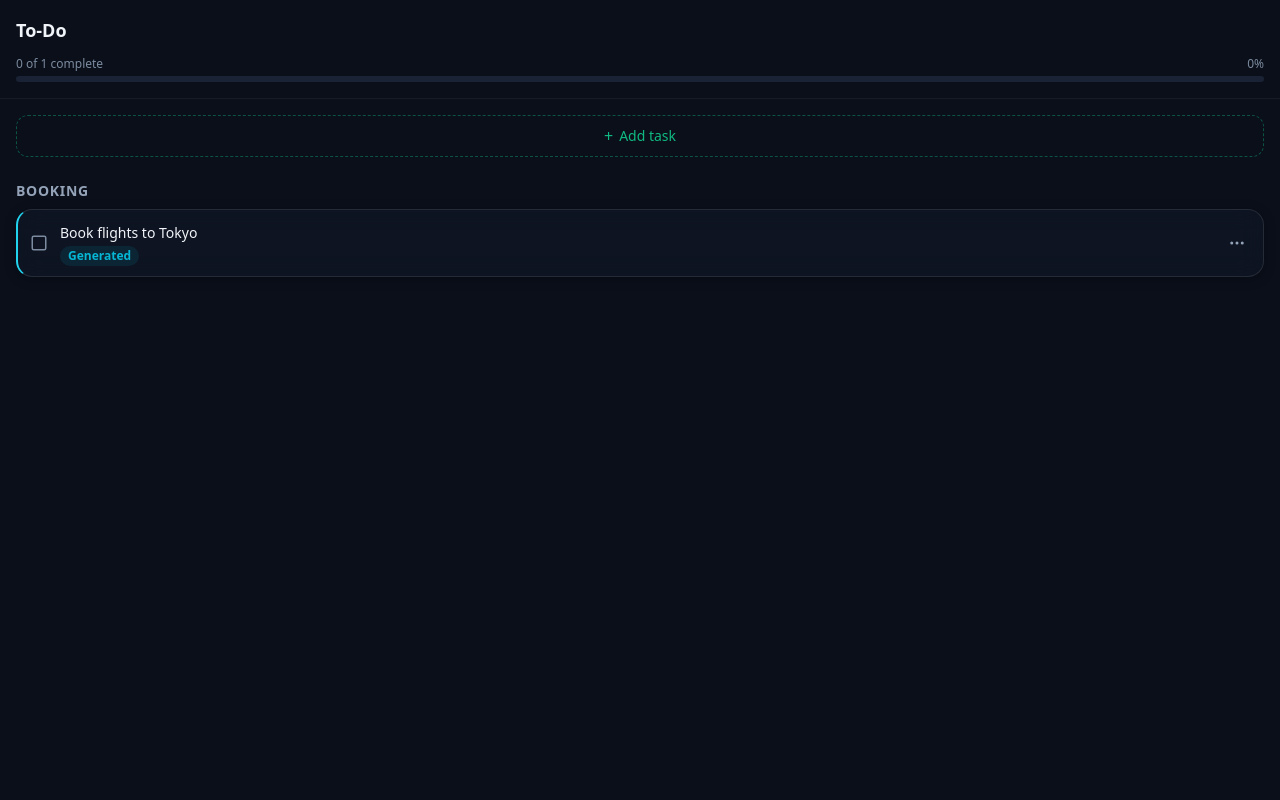
Test: TodoList › delete: shows undo toast after deleting a task
Click the button named "More actions for Book flights" at point(1237, 243), box [1215,221,1259,265]
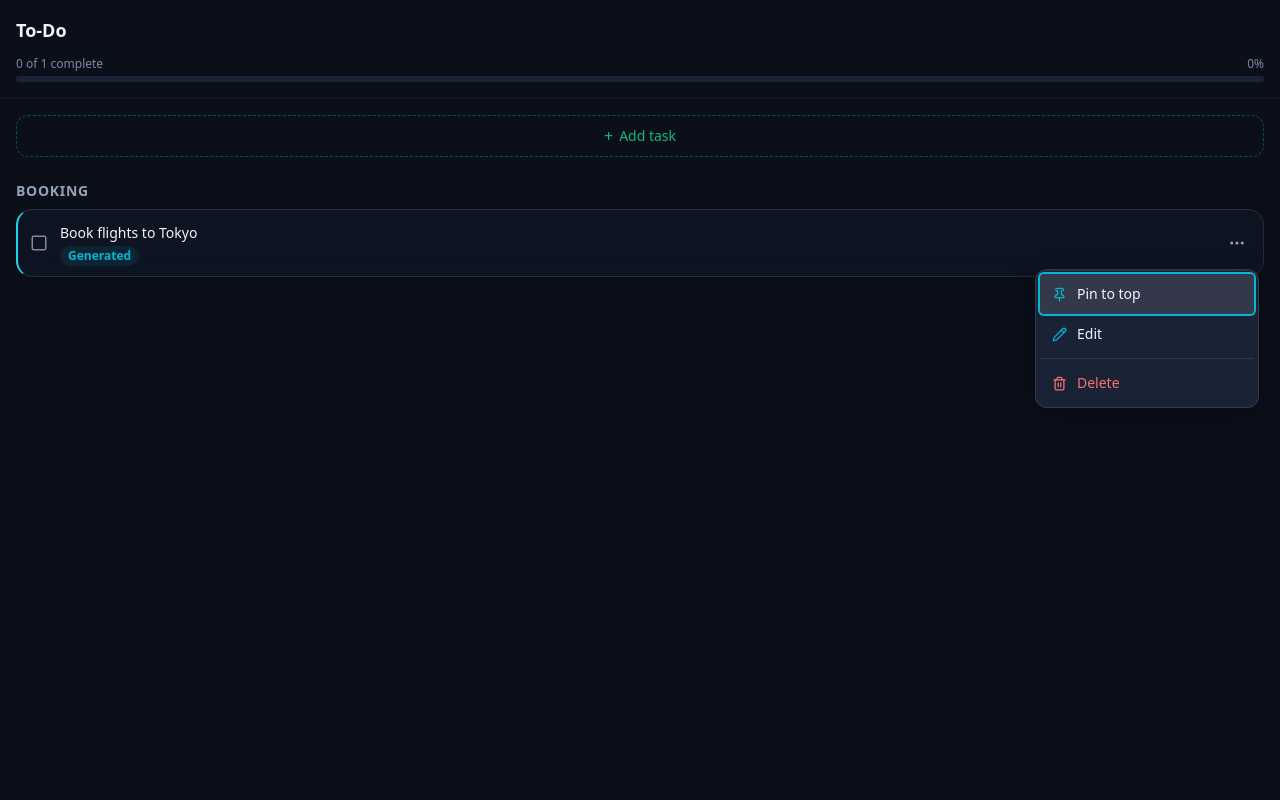
Click the menu item with aria-label "delete: book flights" at point(1147, 383), box [1040,363,1254,403]
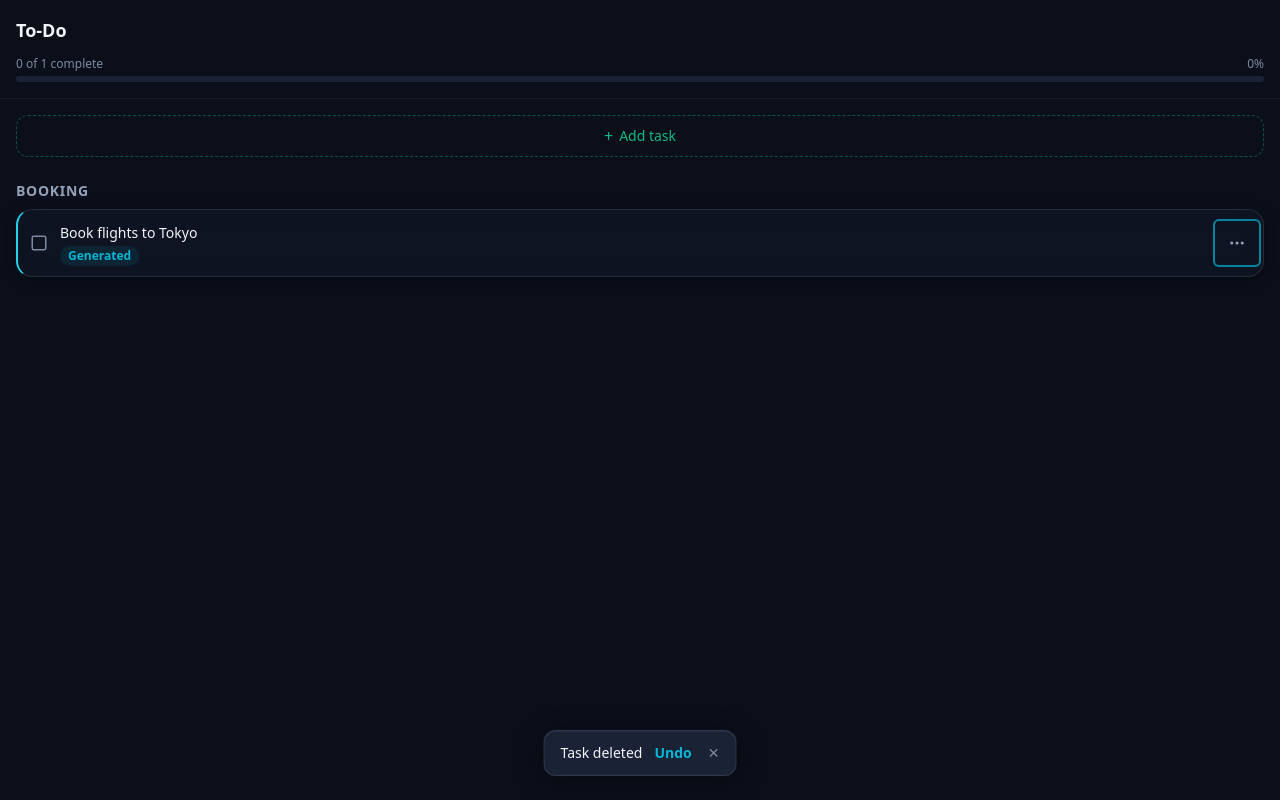
Expected: the text "Task deleted" is shown, [560,743,642,763]
